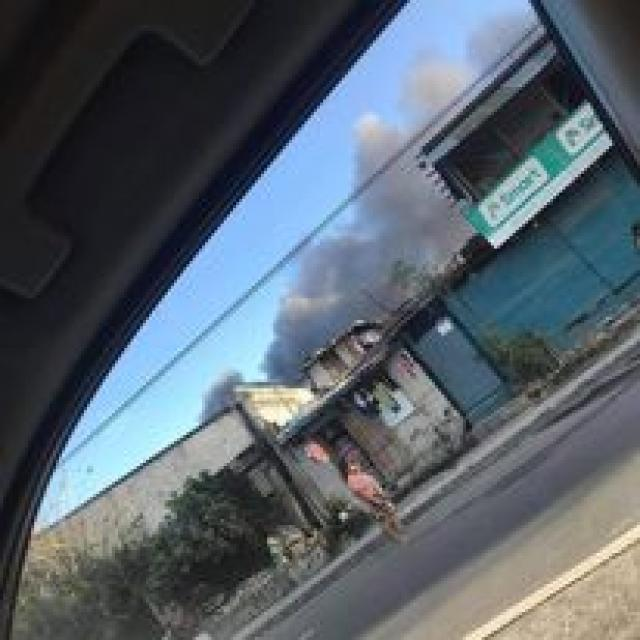Smoke: (260, 124, 503, 368)
